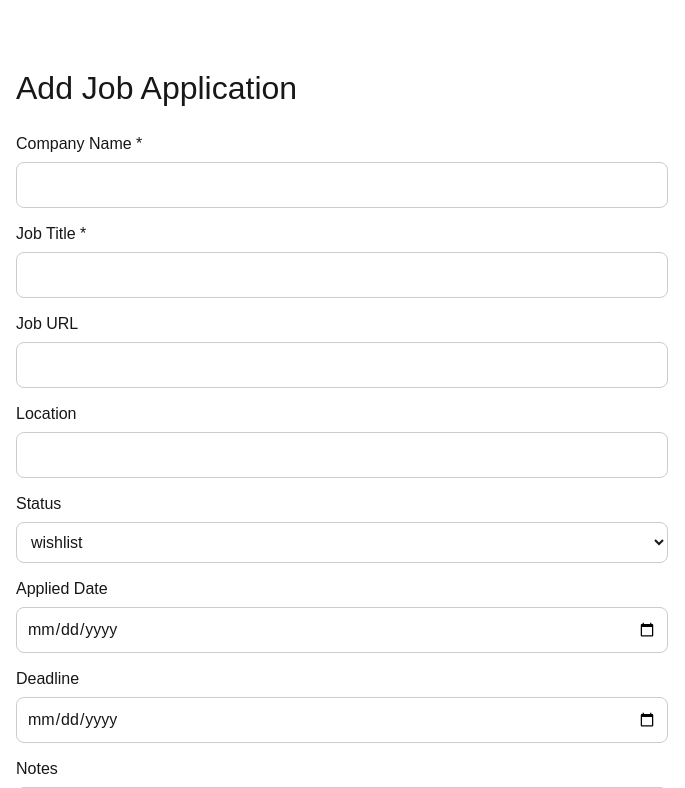
Test: Add Application Form › displays error message on submission failure
Type "Tech Corp" into the field labelled "Company Name *" at point(342, 185), box [16,162,668,208]
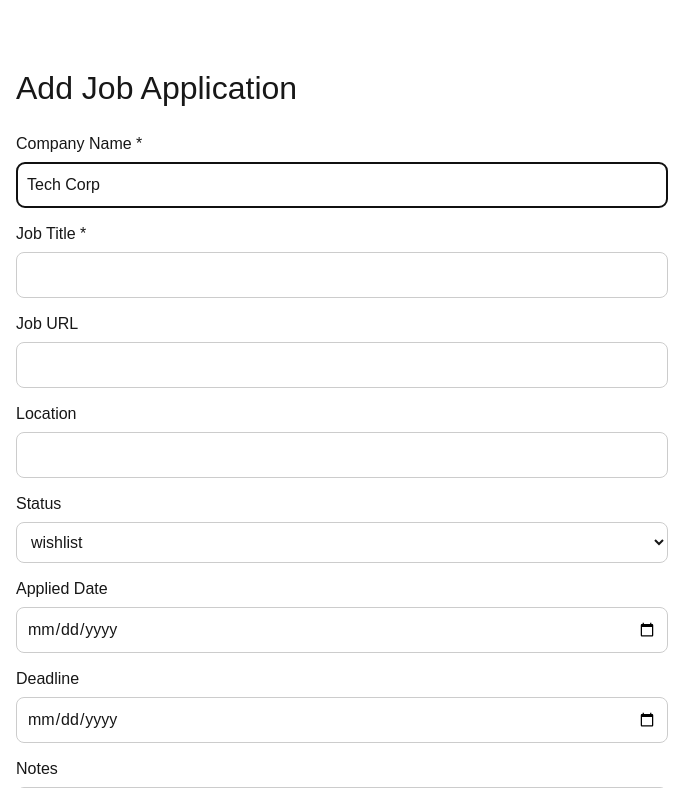
Type "Senior Developer" into the field labelled "Job Title *" at point(342, 275), box [16,252,668,298]
(page scrolled)
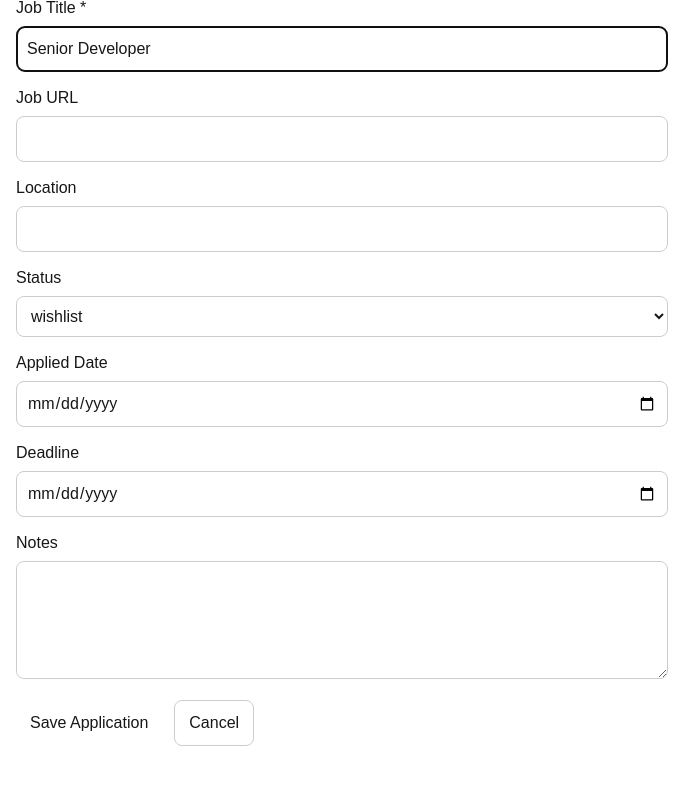
Click the button "Save Application" at point(89, 723), box [16,700,162,746]
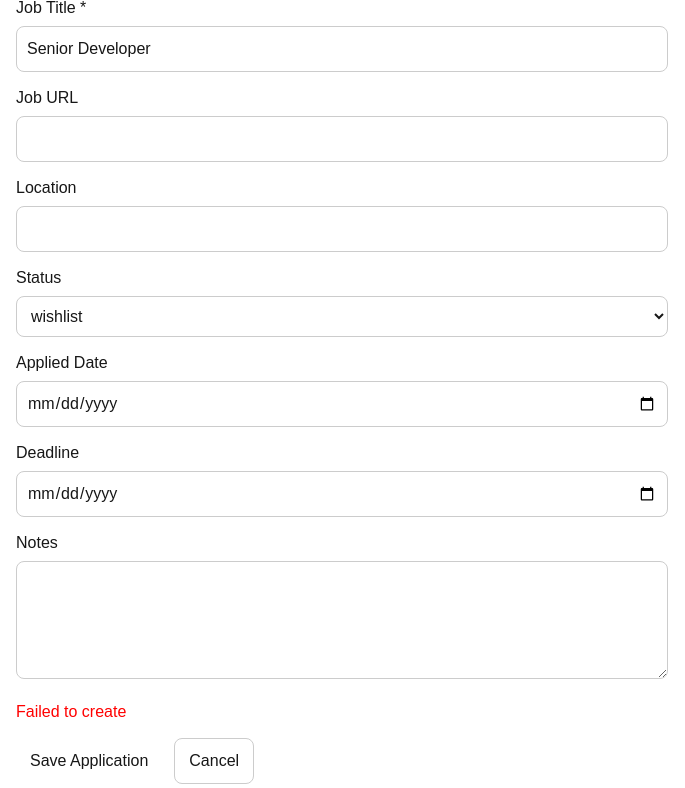
expect the text "Failed to create" is shown: met, box [16,703,126,720]
